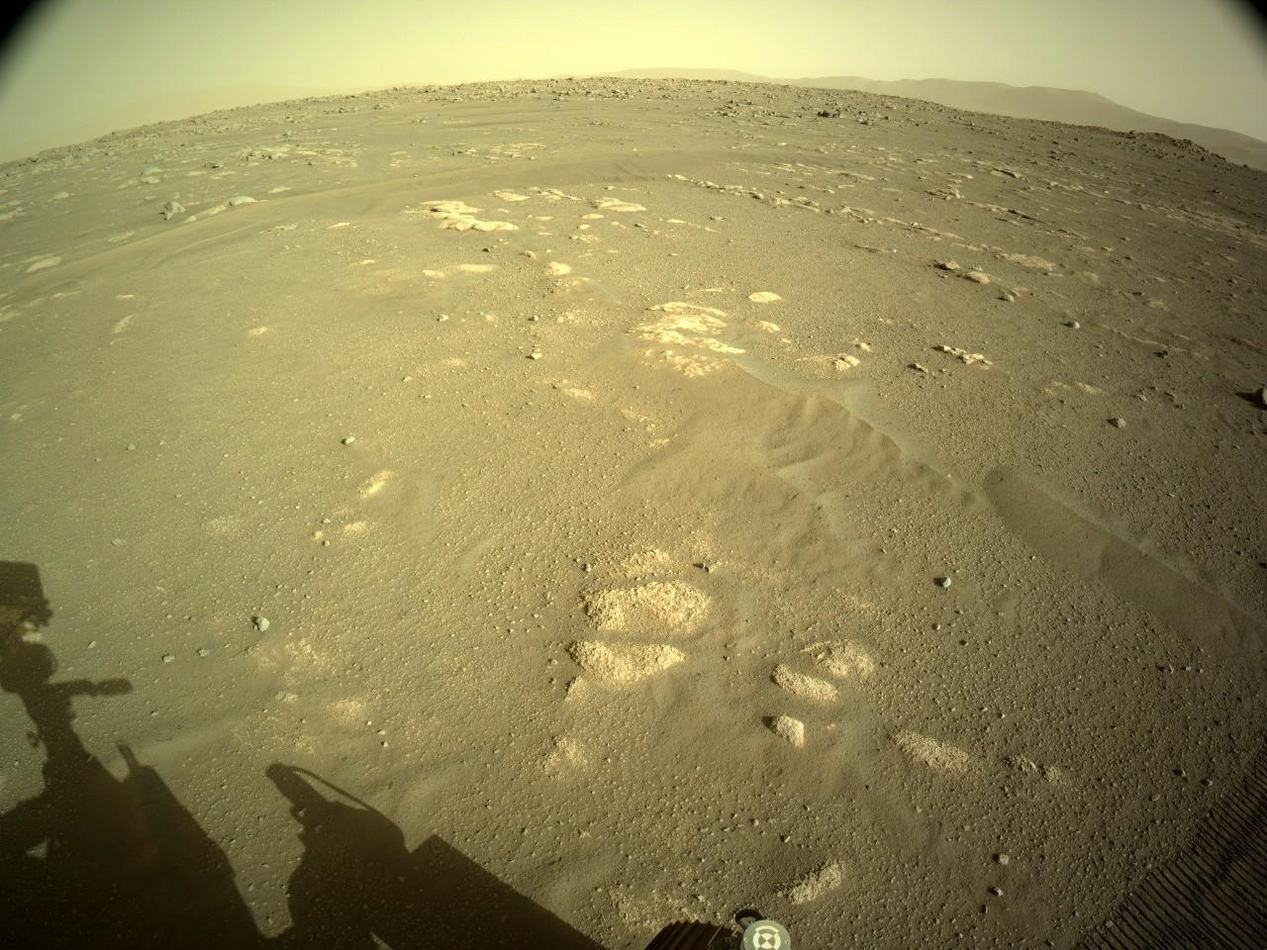bedrock: (0, 59, 1266, 410), (537, 543, 1058, 804), (403, 185, 882, 381), (1197, 143, 1250, 169), (1041, 122, 1097, 125), (1212, 165, 1227, 167), (747, 209, 754, 212), (1250, 171, 1252, 174)
big_rock: (1105, 124, 1205, 142), (1248, 159, 1256, 169), (389, 82, 404, 85), (24, 152, 35, 154), (10, 157, 11, 160)
sand: (619, 356, 1266, 672), (12, 147, 775, 295), (746, 75, 1266, 165), (0, 284, 8, 303)
soil: (0, 240, 1266, 949), (1028, 406, 1266, 590), (1011, 653, 1032, 662), (1012, 620, 1027, 630), (1118, 659, 1131, 663), (283, 240, 294, 244)
